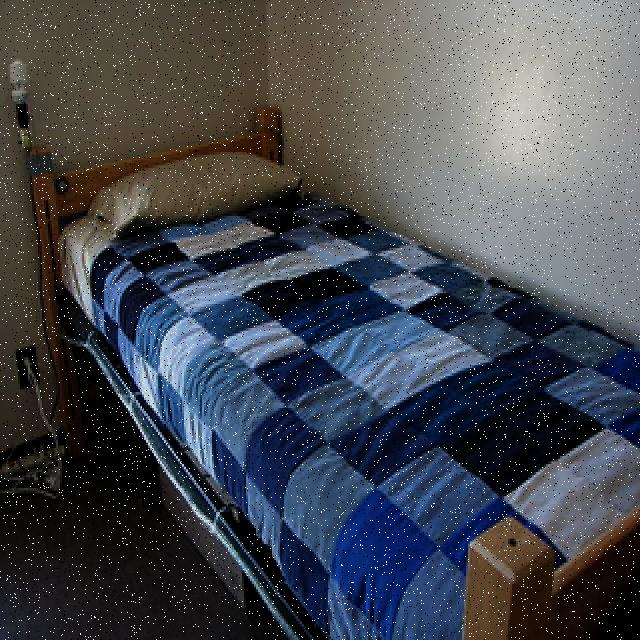bed: (30, 150, 640, 639)
